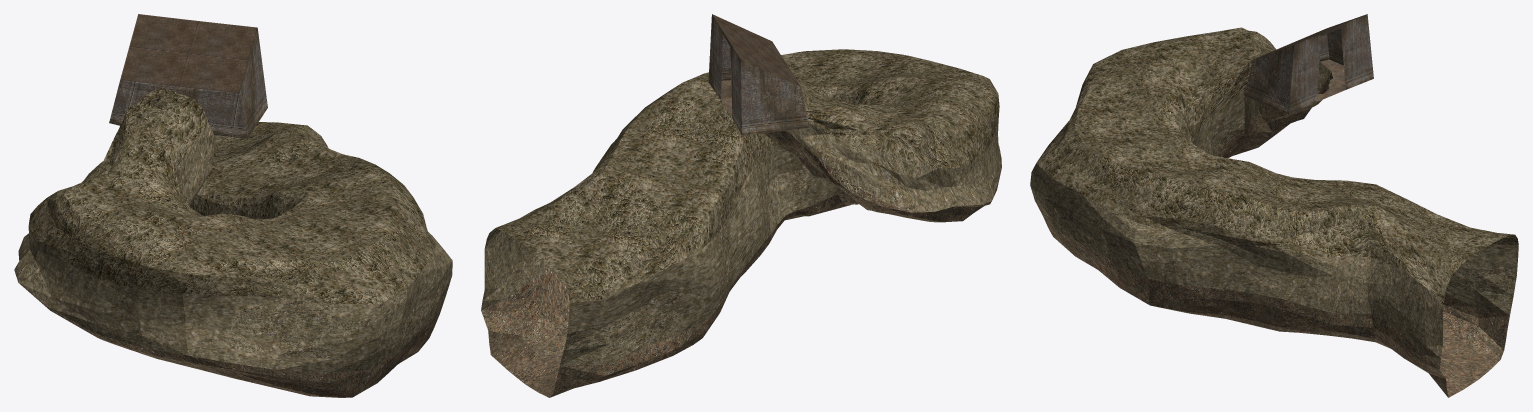
Rendered from thm_tato_fort_tusken_r12_mesh_r12.fbx.
3 renders of one model, left to right at view 1: azimuth 30°, elevation 25°; view 2: azimuth 150°, elevation 25°; view 3: azimuth 270°, elevation 25°, orthographic. The views are drawn at different scales.
Parts seen in each view (by area): view 1: mesh_node; view 2: mesh_node; view 3: mesh_node.
Boxes of the visible parts, x1,y1,x2,y2 form: mesh_node: (14, 14, 452, 397); mesh_node: (481, 14, 1001, 397); mesh_node: (1030, 14, 1518, 397).
Bounding box in the file's own units: 24.46 × 18.76 × 28.16.
